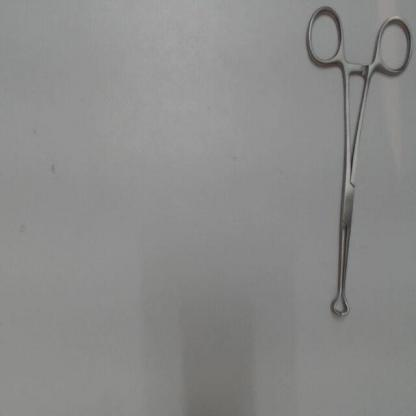Babcock Tissue Forceps: (302, 0, 414, 322)
